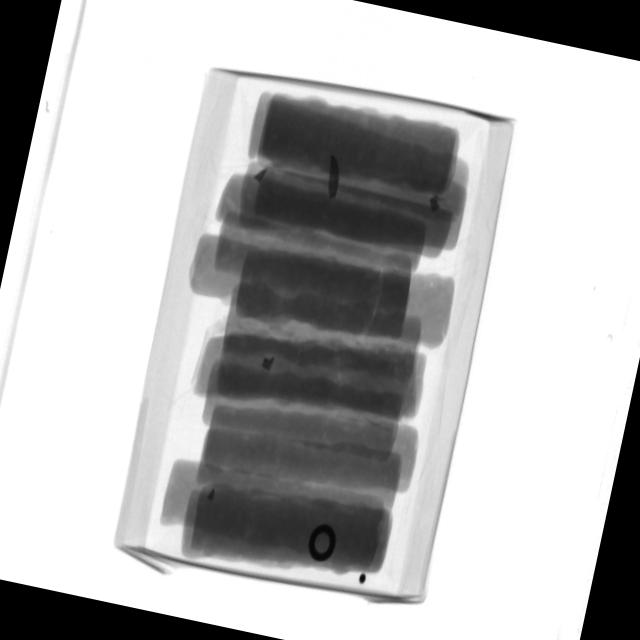ym: (306, 520, 342, 567), (323, 154, 347, 200), (427, 193, 445, 218), (255, 165, 269, 183), (207, 488, 218, 504), (264, 355, 276, 368), (359, 572, 369, 586)
